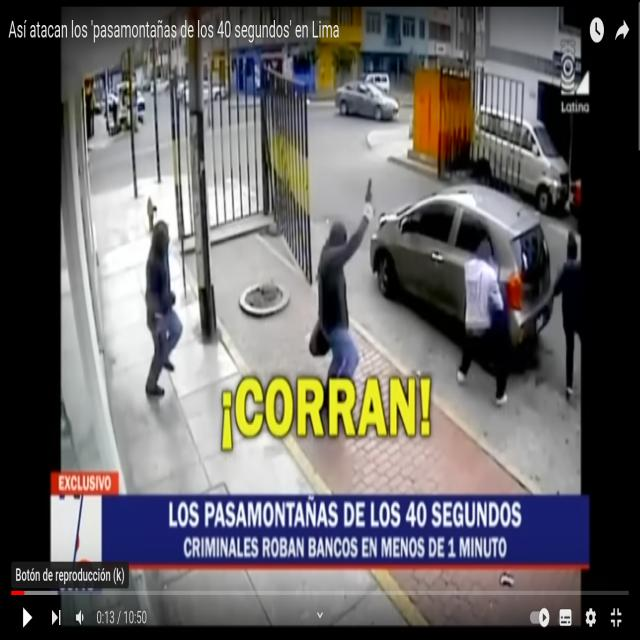Pistol: (363, 173, 375, 212)
